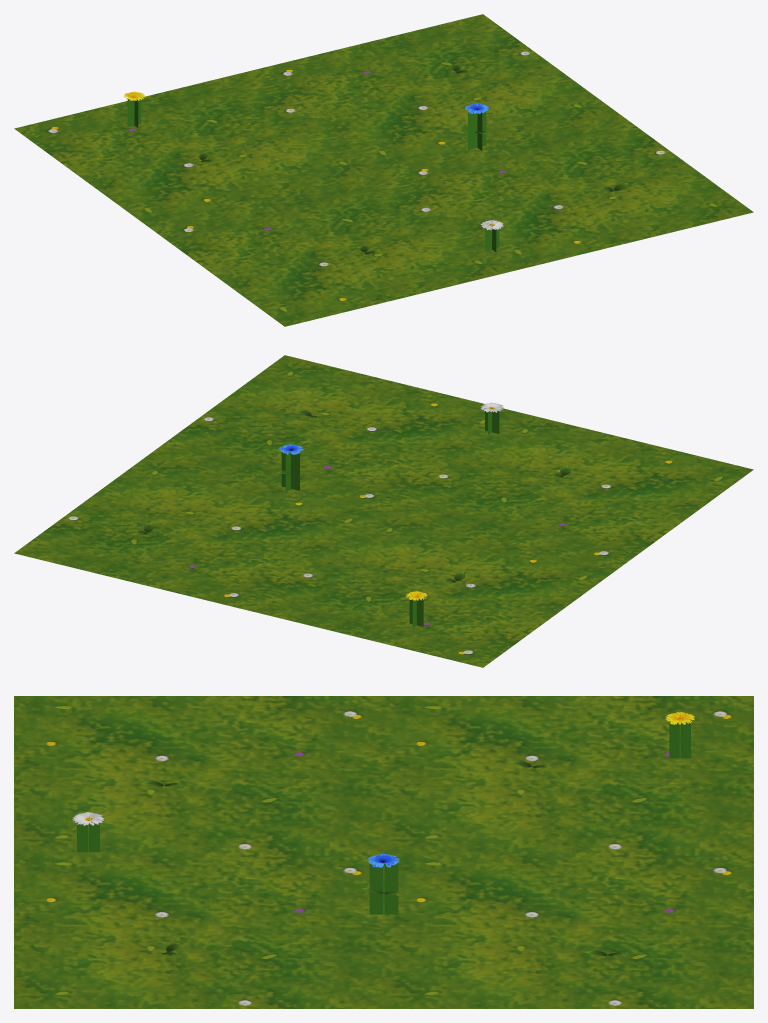
The model's file is green-grass.fbx.
The picture shows the model from 3 angles, top to bottom: view 1: azimuth 30°, elevation 25°; view 2: azimuth 150°, elevation 25°; view 3: azimuth 270°, elevation 25°; orthographic projection. The views are drawn at different scales.
Parts seen in each view (by area): view 1: ground; view 2: ground; view 3: ground, stem_1_8, stem_1, stem_1_5, stem_10.
Part boxes in pixels (box(x1,y1,x2,y2)): ground: box(14, 14, 753, 326); ground: box(14, 355, 753, 667); ground: box(14, 696, 753, 1008); stem_1_8: box(369, 863, 398, 914); stem_1: box(669, 721, 690, 758); stem_1_5: box(77, 820, 99, 852); stem_10: box(369, 863, 398, 914).
Size of the model in its own units: 1000 by 95.71 by 1000.
6 materials, 6 textured.
